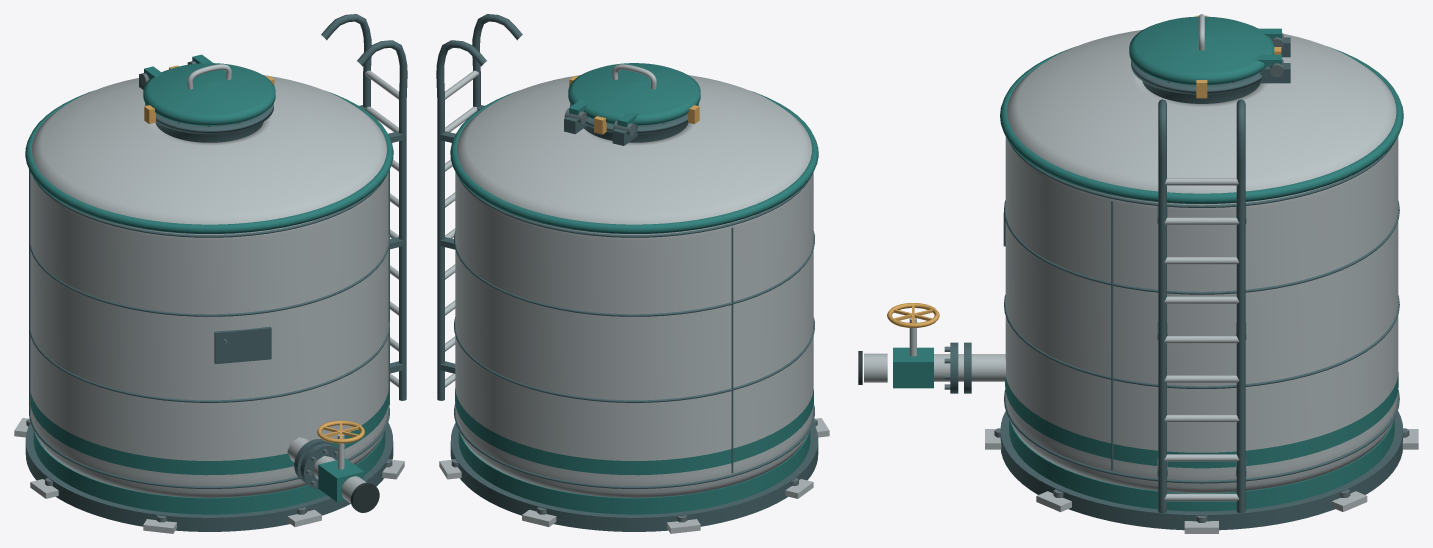
The model's file is vessel_hatch.glb.
3 views of the same model, side by side, from view 1: azimuth 30°, elevation 25°; view 2: azimuth 150°, elevation 25°; view 3: azimuth 270°, elevation 25° (orthographic). The views are drawn at different scales.
Parts seen in each view (by area): view 1: tank_shell, fixed_roof, vessel_hatch__body, manway_cover, external_ladder, lower_painted_band, manway_neck, vessel_hatch__lid; view 2: tank_shell, fixed_roof, vessel_hatch__body, manway_cover, external_ladder, lower_painted_band, manway_neck, vessel_hatch__lid; view 3: tank_shell, fixed_roof, vessel_hatch__body, external_ladder, manway_cover, lower_painted_band, manway_neck, vessel_hatch__lid.
Part boxes in pixels (<box>): tank_shell: <box>30,172,388,497</box>; fixed_roof: <box>32,75,386,224</box>; vessel_hatch__body: <box>14,61,404,533</box>; manway_cover: <box>143,63,275,125</box>; external_ladder: <box>321,14,407,400</box>; lower_painted_band: <box>30,388,388,475</box>; manway_neck: <box>145,103,273,142</box>; vessel_hatch__lid: <box>144,54,231,89</box>; tank_shell: <box>455,172,813,497</box>; fixed_roof: <box>457,75,811,224</box>; vessel_hatch__body: <box>439,76,829,533</box>; manway_cover: <box>568,63,700,125</box>; external_ladder: <box>436,14,522,400</box>; lower_painted_band: <box>455,388,813,475</box>; manway_neck: <box>570,103,698,142</box>; vessel_hatch__lid: <box>569,64,656,127</box>; tank_shell: <box>1005,136,1398,493</box>; fixed_roof: <box>1007,29,1396,193</box>; vessel_hatch__body: <box>858,15,1418,533</box>; external_ladder: <box>1157,99,1246,513</box>; manway_cover: <box>1129,16,1274,85</box>; lower_painted_band: <box>1005,372,1398,468</box>; manway_neck: <box>1131,60,1261,103</box>; vessel_hatch__lid: <box>1198,14,1281,66</box>.
Bounding box in the file's own units: 2.6 × 2.75 × 3.28.
